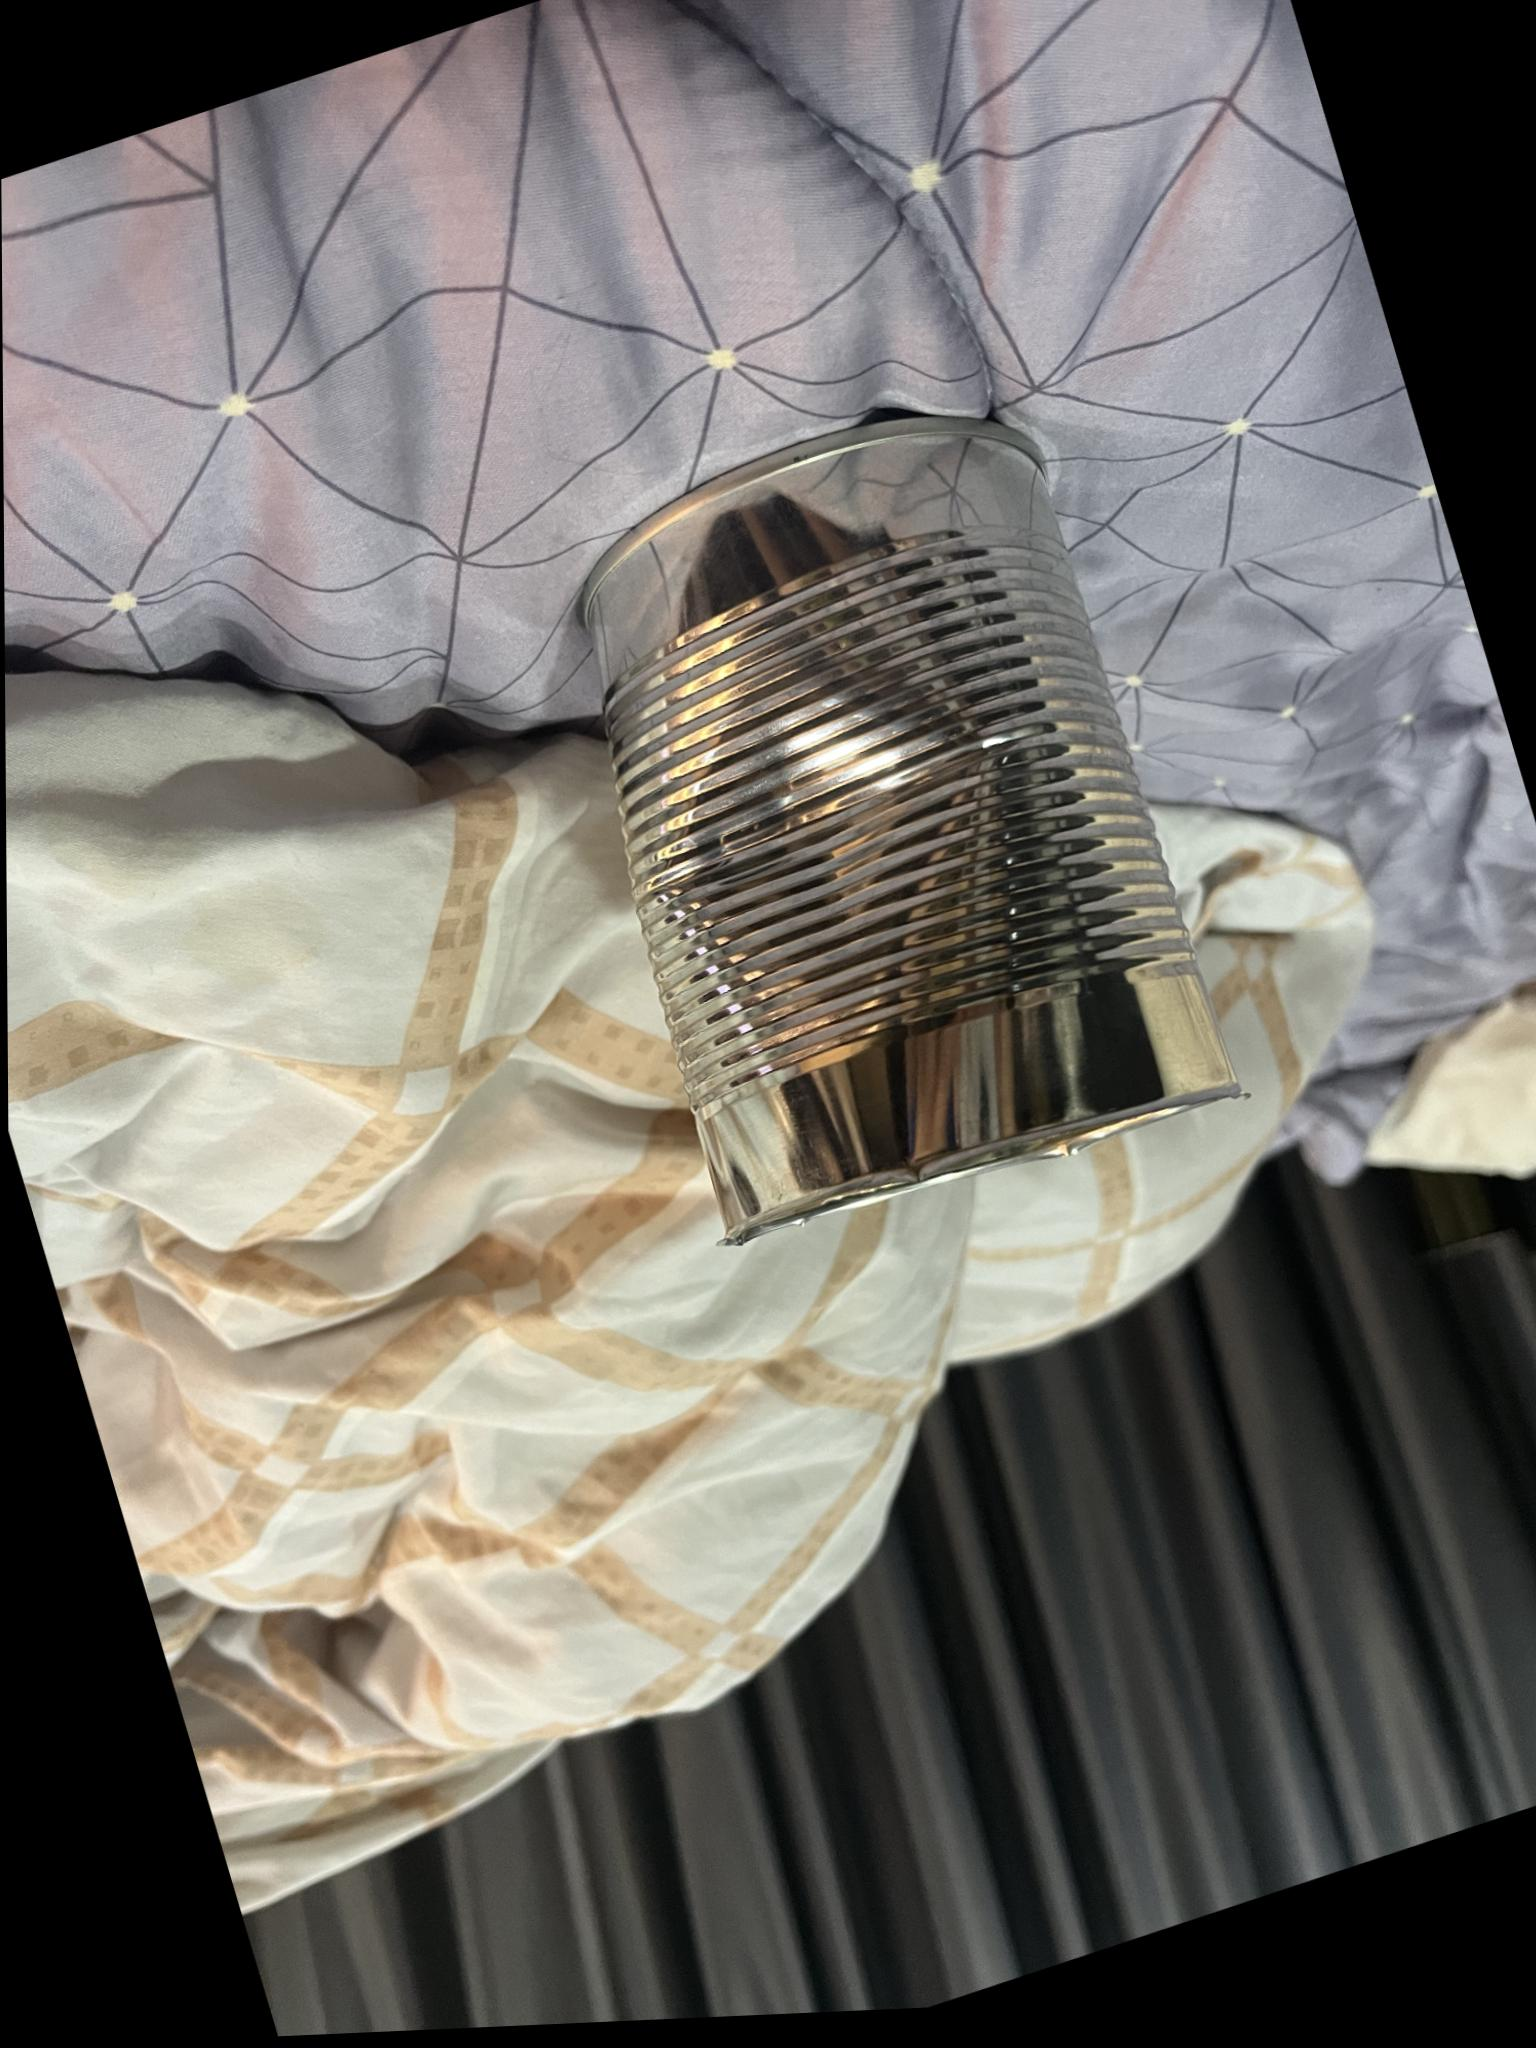metal: (582, 414, 1284, 1240)
